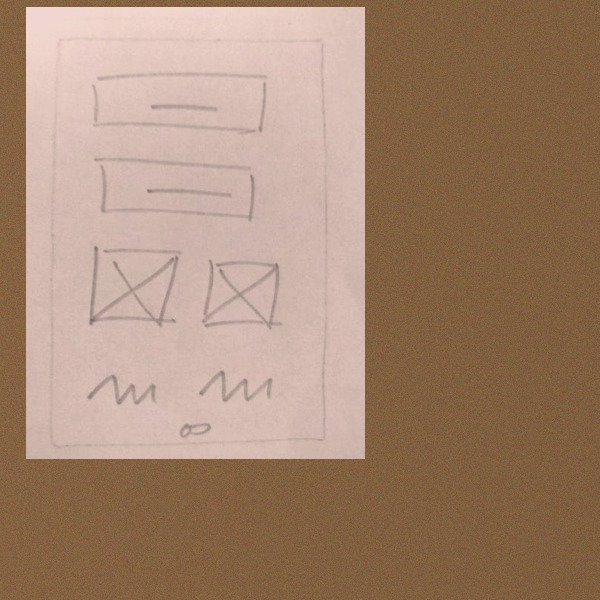button: (86, 67, 276, 139), (87, 151, 264, 225)
image: (83, 241, 183, 331), (199, 250, 291, 337)
switch: (170, 419, 220, 441)
text: (193, 361, 281, 410), (80, 369, 167, 412)
